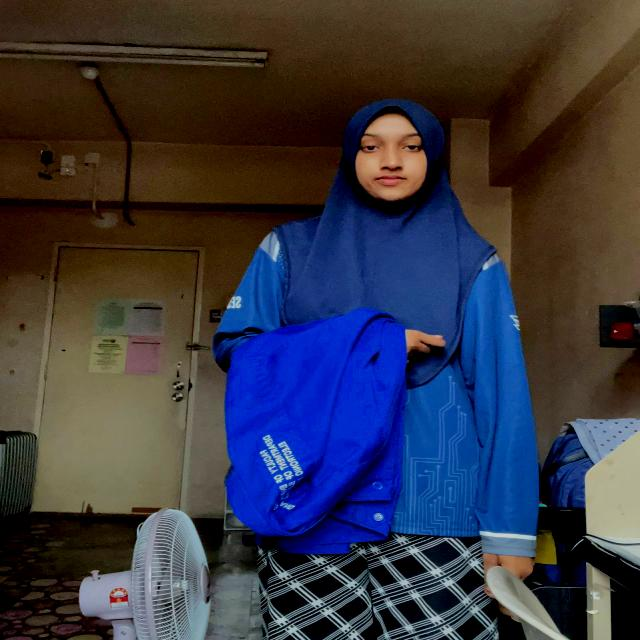person_without_labcoat: (214, 100, 538, 640)
